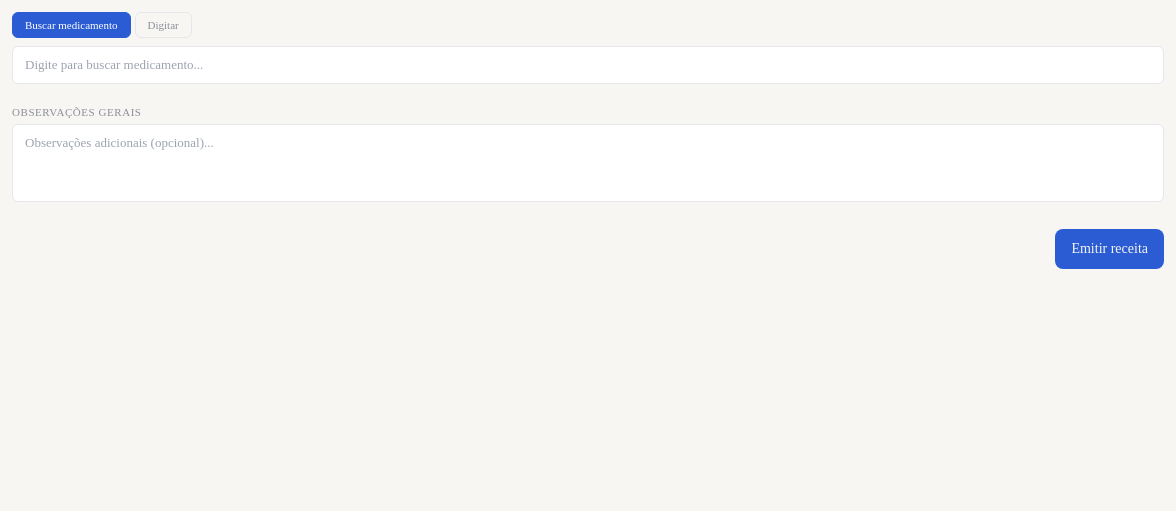
PrescriptionForm (integration) › adds manual ingredient item on Enter key
The width and height of the screenshot is (1176, 511).
Click the button with test id "prescription-form-tab-ingredient": (163, 25) [135,12,192,38]
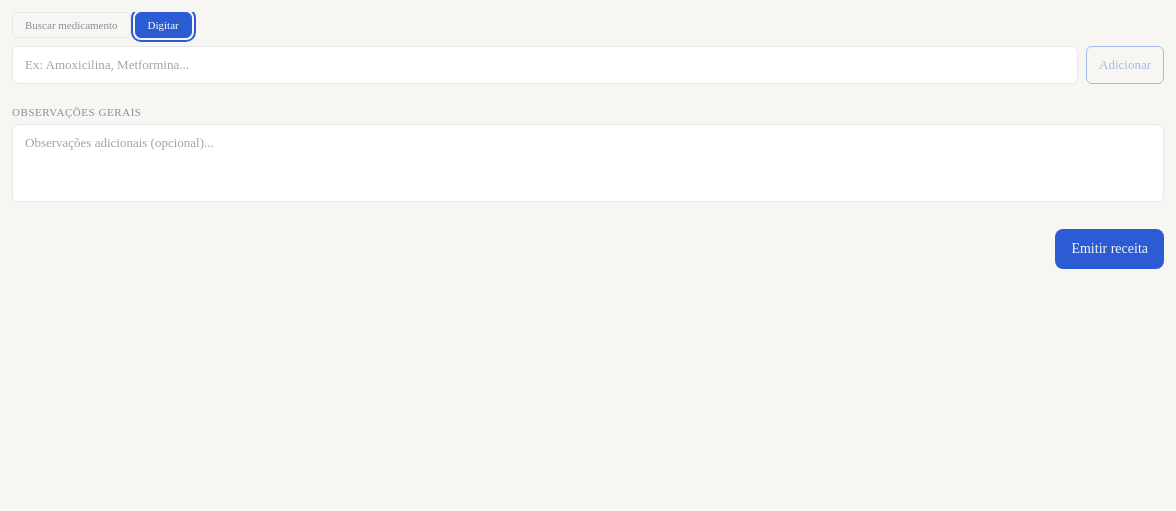
In the field with test id "prescription-form-manual-input": (545, 65) [12,46,1078,84], type "Metformina"
Then press Enter
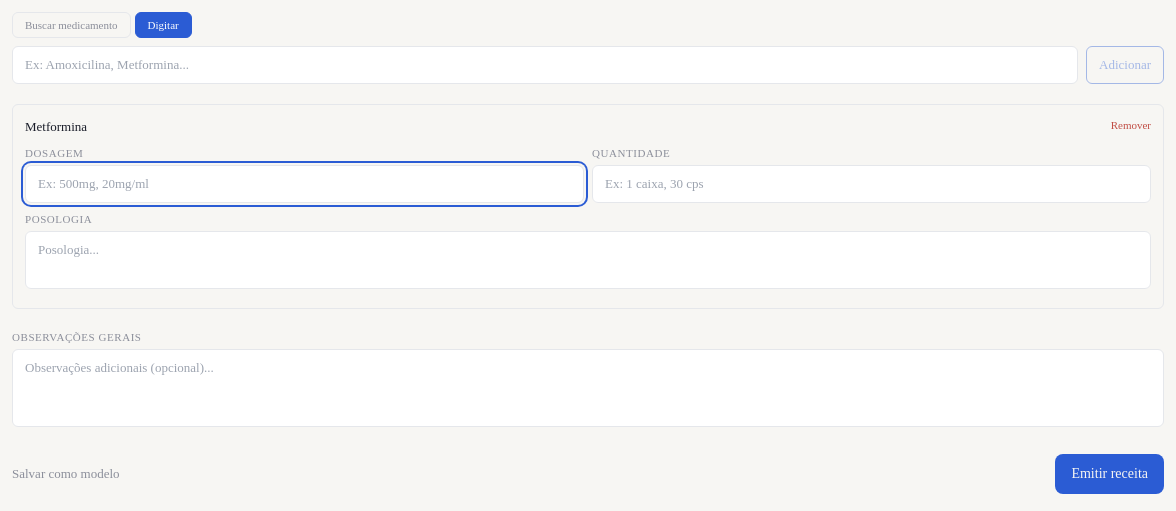
Expected: the list item with test id "prescription-form-item-0" is shown, [12,104,1164,309]
Expected: the text with test id "prescription-form-item-name-0" reads "Metformina", [25,119,87,134]
